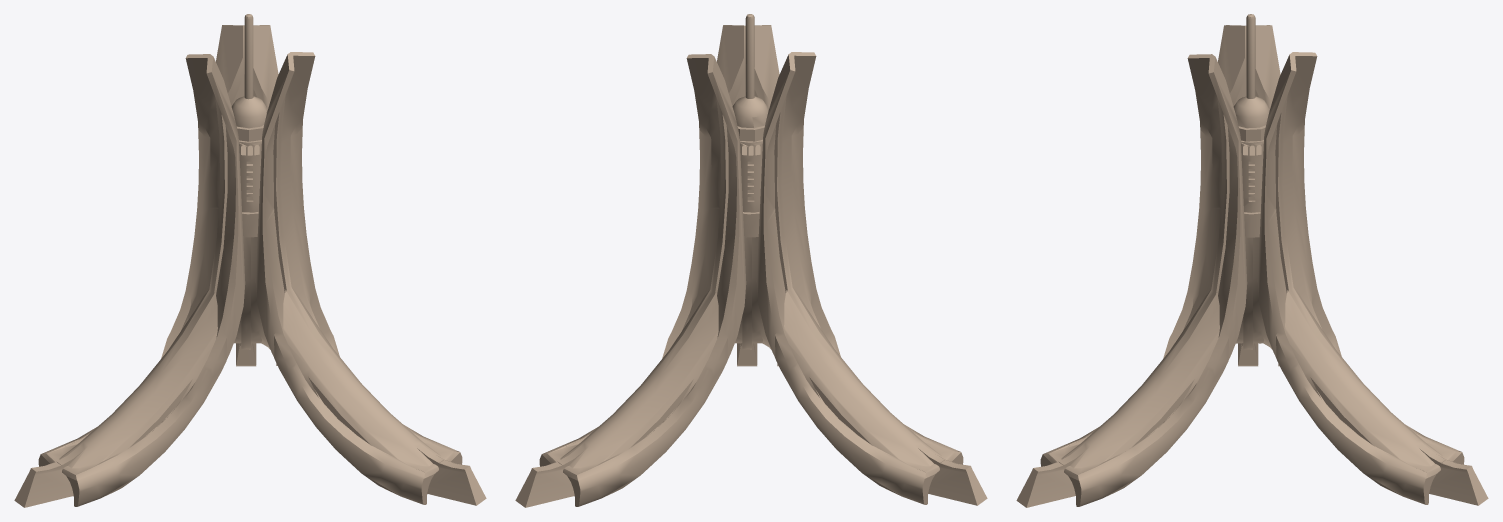
File: maqam-echahid.glb
The picture shows the model from 3 angles, left to right: view 1: azimuth 30°, elevation 25°; view 2: azimuth 150°, elevation 25°; view 3: azimuth 270°, elevation 25°; orthographic projection.
Parts seen in each view (by area): view 1: Monument; view 2: Monument; view 3: Monument.
Part boxes in pixels (left/top/right/bottom): Monument: left=14, top=14, right=486, bottom=507; Monument: left=515, top=14, right=987, bottom=507; Monument: left=1016, top=14, right=1488, bottom=507.
Size of the model in its own units: 2110969 by 2427789 by 2400819.
